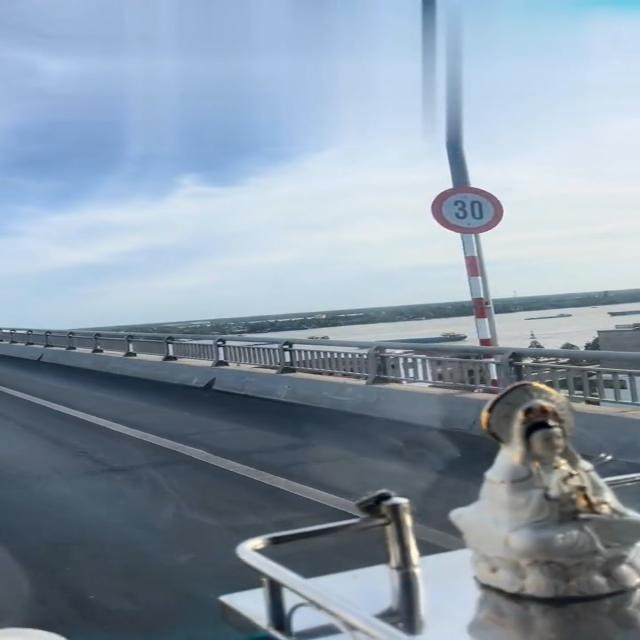127-toc-do-toi-da-30: (429, 187, 503, 235)
